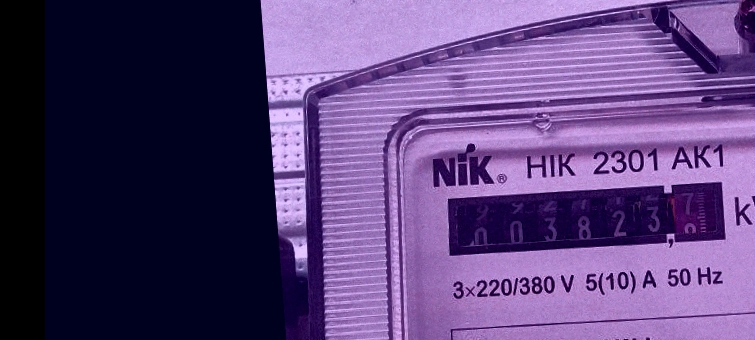0: (504, 216, 526, 244), (471, 222, 490, 247)
2: (609, 206, 630, 239)
3: (644, 202, 664, 233), (540, 212, 560, 242)
7: (680, 190, 698, 219)
8: (574, 212, 593, 241)
9: (471, 201, 490, 221)
screen: (438, 172, 731, 265)
